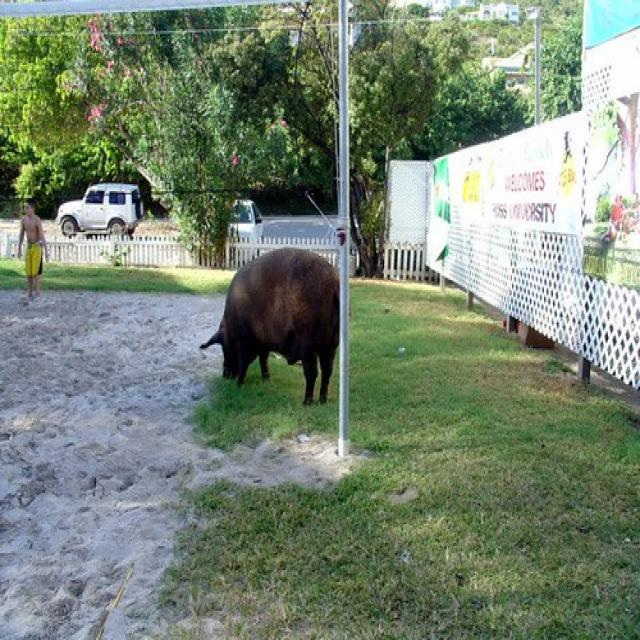boar: (186, 235, 356, 426)
